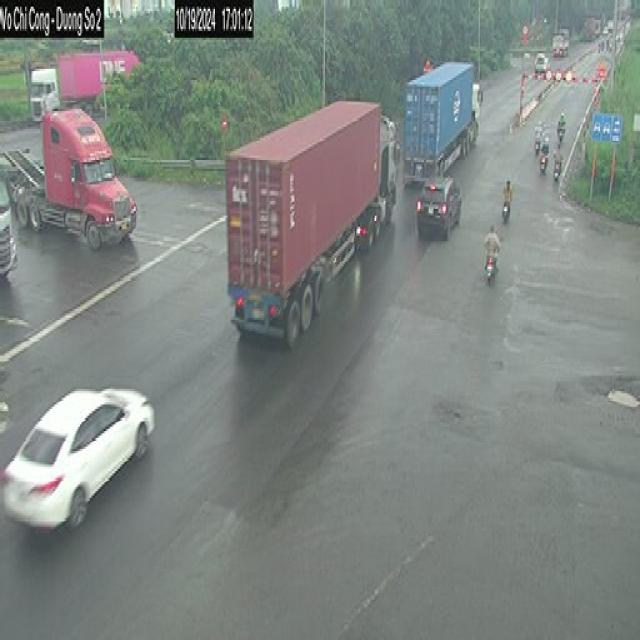car: (2, 387, 160, 535), (411, 171, 463, 246)
container-truck: (214, 95, 408, 354), (2, 104, 142, 248), (398, 55, 488, 174)
